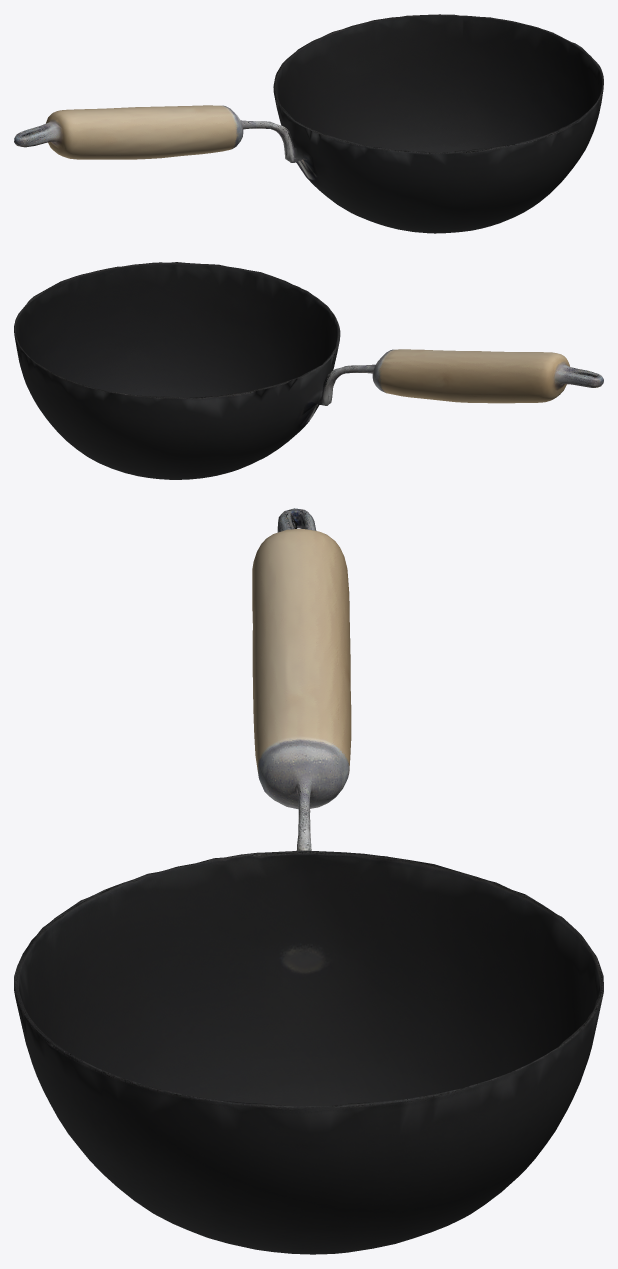
File: Wok.obj
3 renders of one model, top to bottom at view 1: azimuth 30°, elevation 25°; view 2: azimuth 150°, elevation 25°; view 3: azimuth 270°, elevation 25°, orthographic. The views are drawn at different scales.
Size of the model in its own units: 0.3843 by 0.1175 by 0.1897.
1 material, 1 textured.
